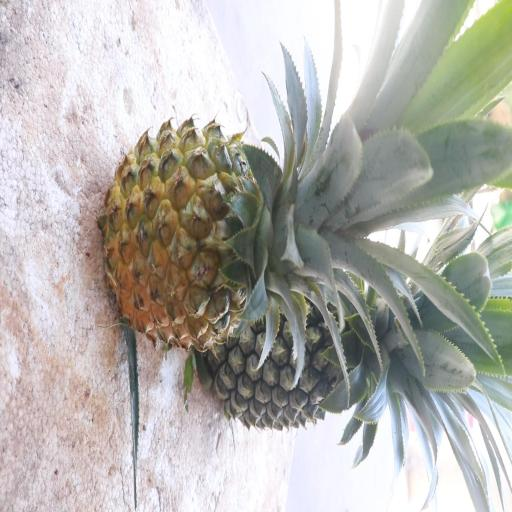Pineapple - v8 v1: (97, 108, 358, 355)
